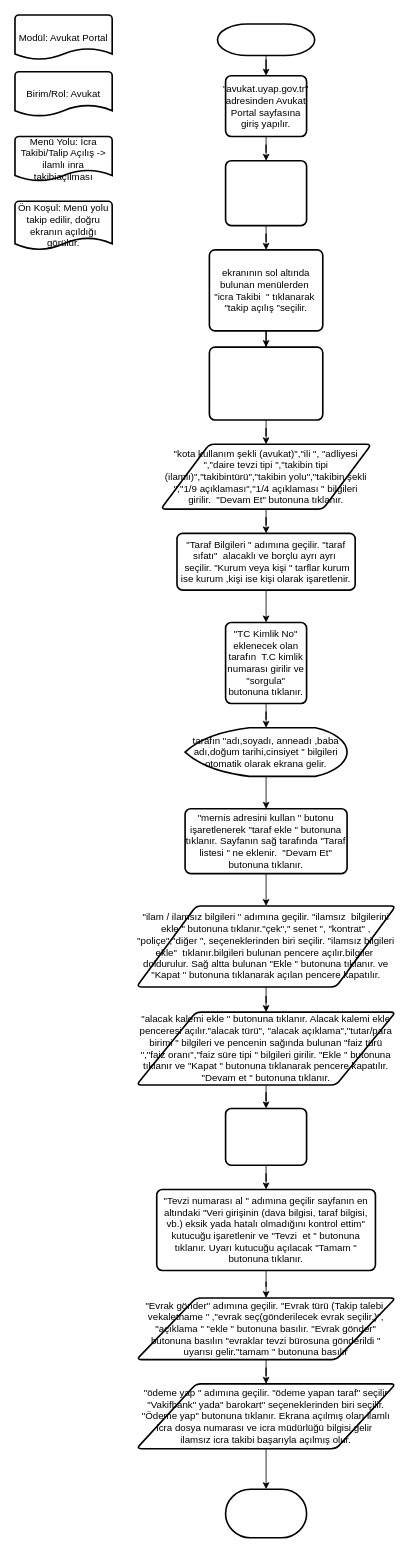
Image size: 410x1552. Some labels were removed from this diagram. Here are the shapes that lost their labels. From the top down, the centre of each, then its label:
pixel 265 39: Başla
pixel 265 193: Kullanıcı adı girilerek Avukat Portal ekranına girilir.
pixel 265 383: "takip açılış" seçildikten sonra "dosya /takip bilgileri " ekranına geçilir.
pixel 265 1136: "harç/masraf bilgileri " adımına geçilir."Devam et " butonuna tıklanır.
pixel 265 1513: Bitir
